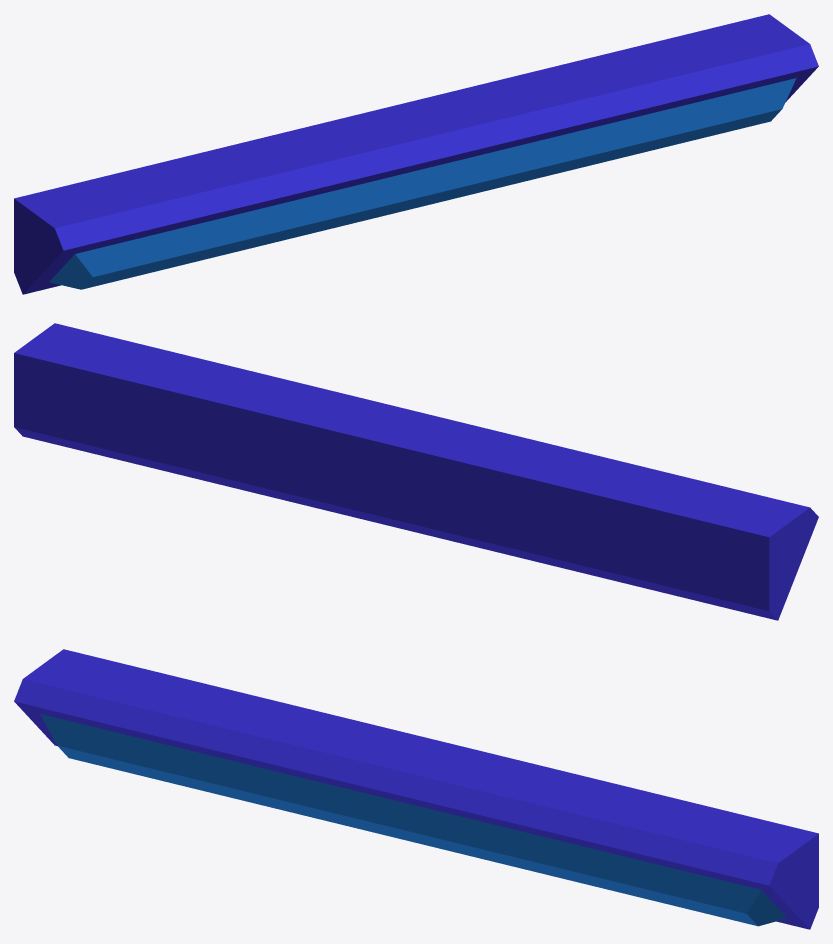
Rendered from SM_lamp2.fbx.
3 views of the same model, one above another, from view 1: azimuth 30°, elevation 25°; view 2: azimuth 150°, elevation 25°; view 3: azimuth 330°, elevation 25° (orthographic).
Parts seen in each view (by area): view 1: lamp2; view 2: lamp2; view 3: lamp2.
Boxes of the visible parts, x1=… form: lamp2: x1=14, y1=14, x2=818, y2=294; lamp2: x1=14, y1=323, x2=818, y2=620; lamp2: x1=14, y1=649, x2=818, y2=929.
Bounding box in the file's own units: 130 × 14.82 × 14.82.
